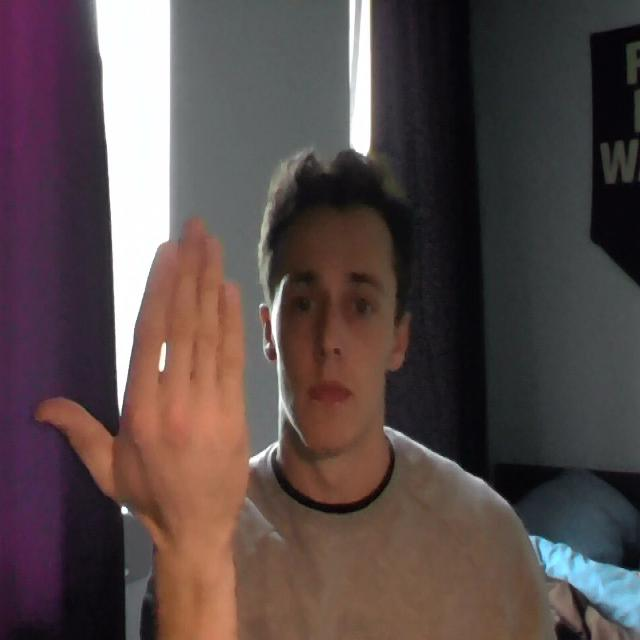forward: (24, 145, 260, 538)
